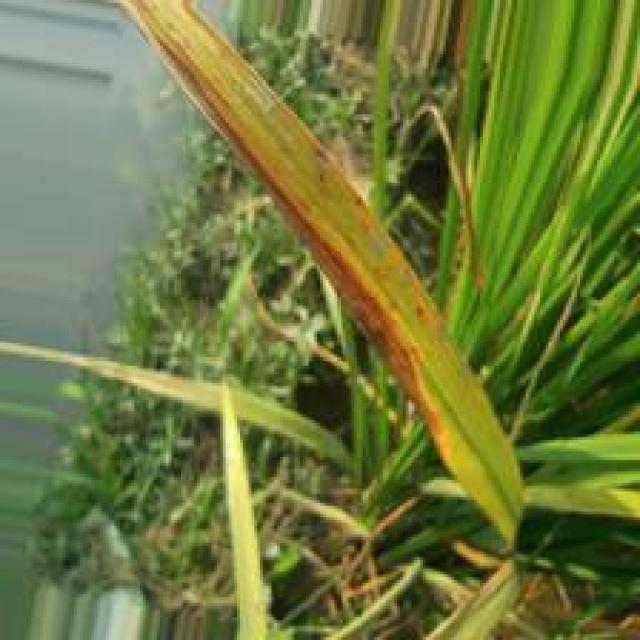Bacterial_Leaf_Blight: (107, 0, 452, 452)
